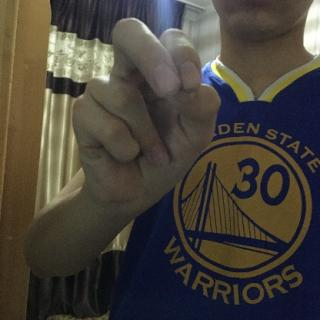QAAF: (66, 11, 231, 219)
